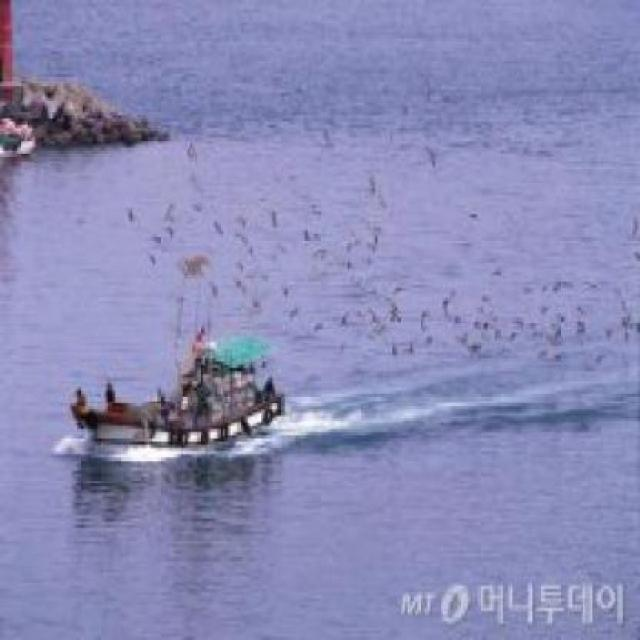fish-b: (54, 237, 294, 459)
